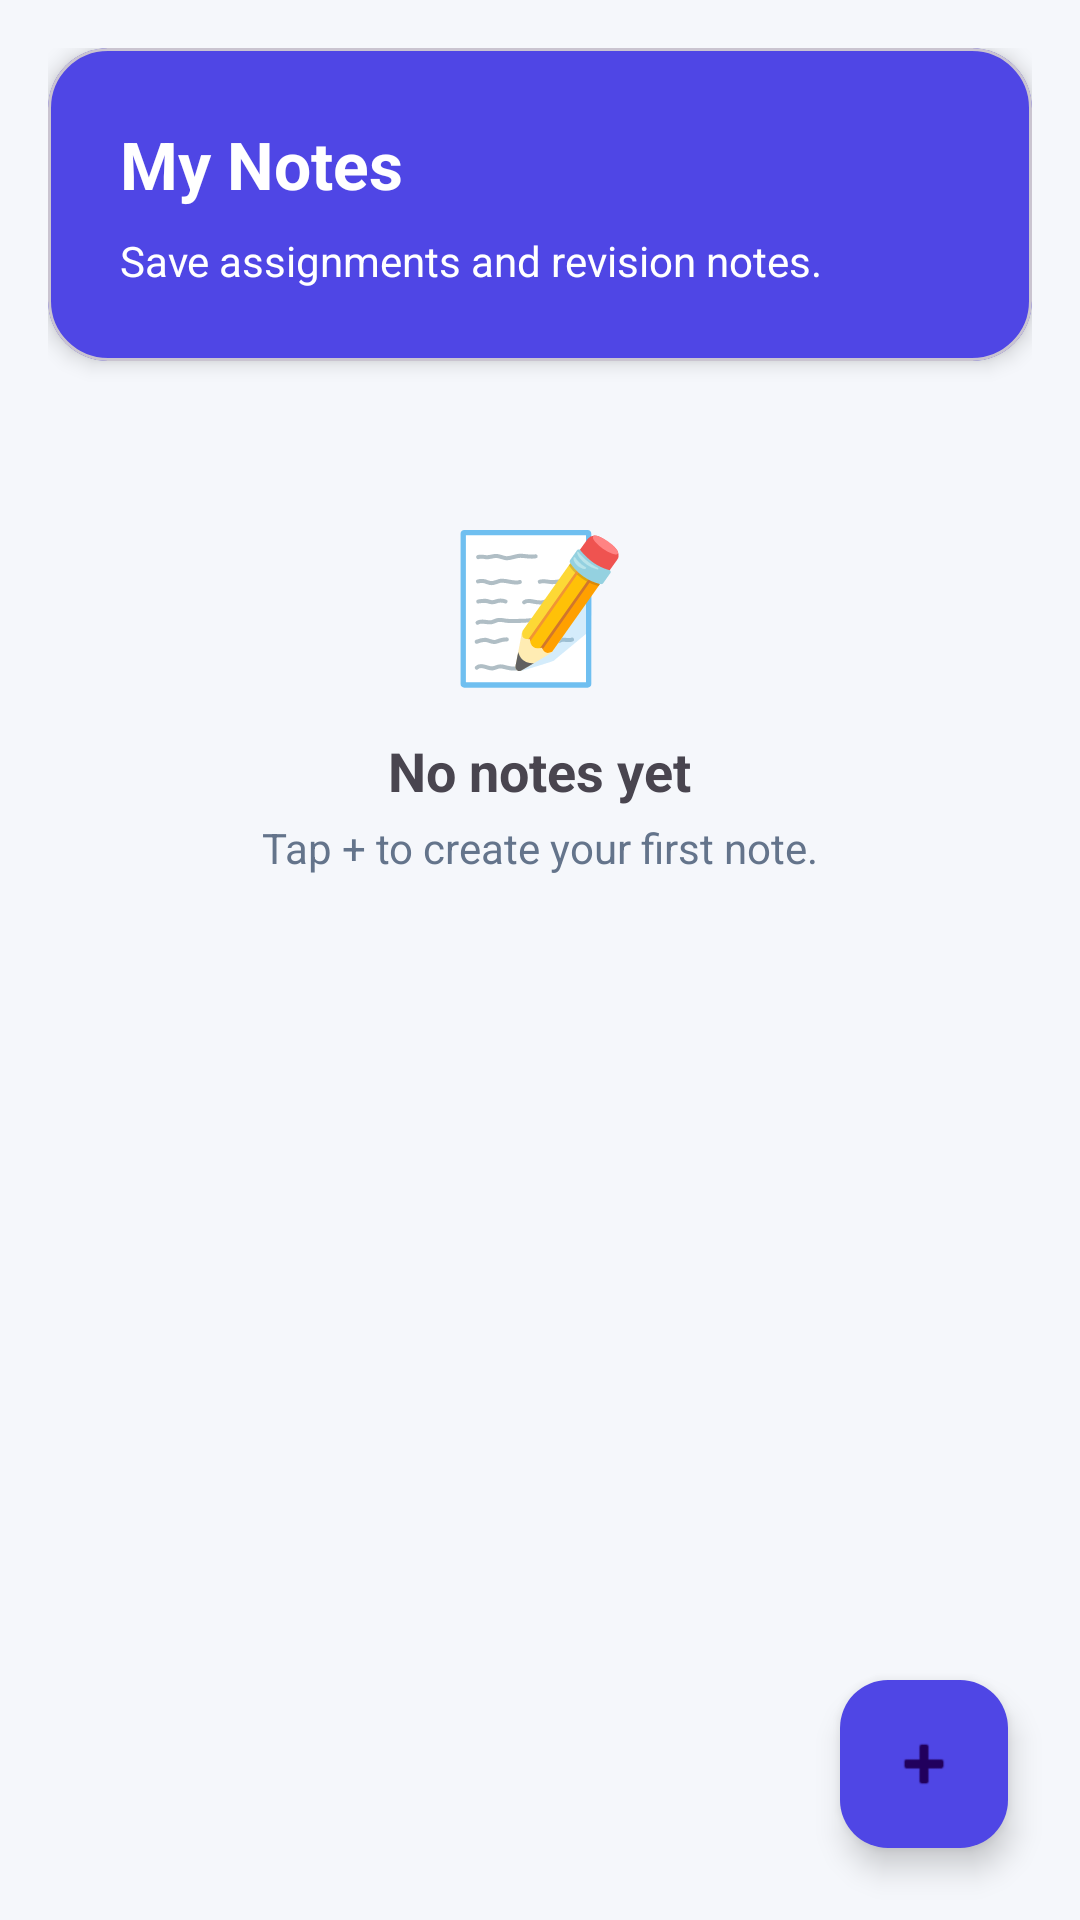

Icons on this 1080px x 1920px Android screen, each with the point to tap as point (x, y):
Add Note: point (924, 1764)
